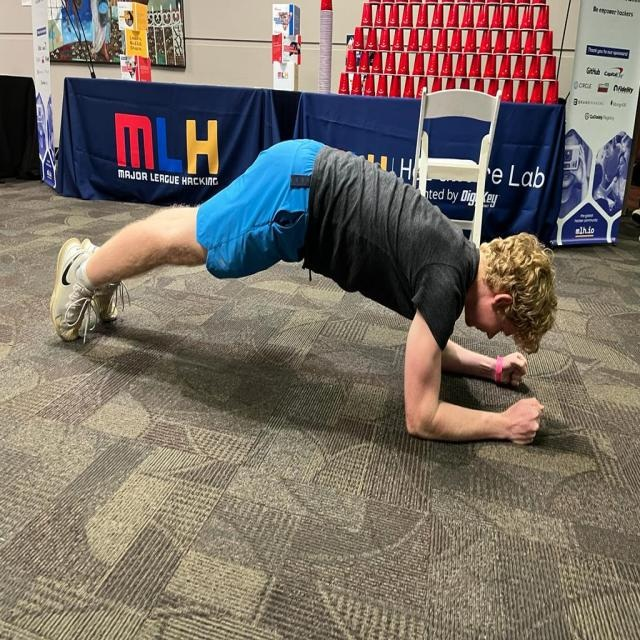plank: (44, 132, 560, 456)
